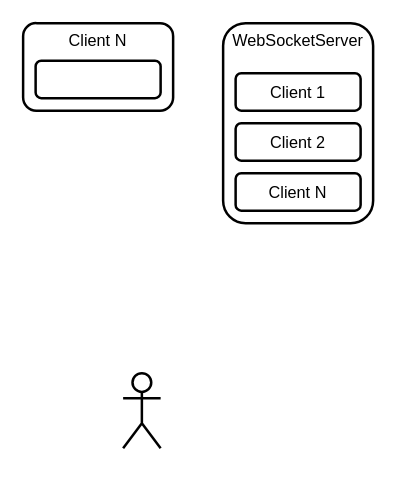
The diagram is 395 pixels wide and 498 high, and some of its shapes have lost their labels. Here are the shapes that lost their labels. From the top down, the centre of each, then its label:
At [97,79]: "Ws Conn".
At [141,410]: "Actor".
